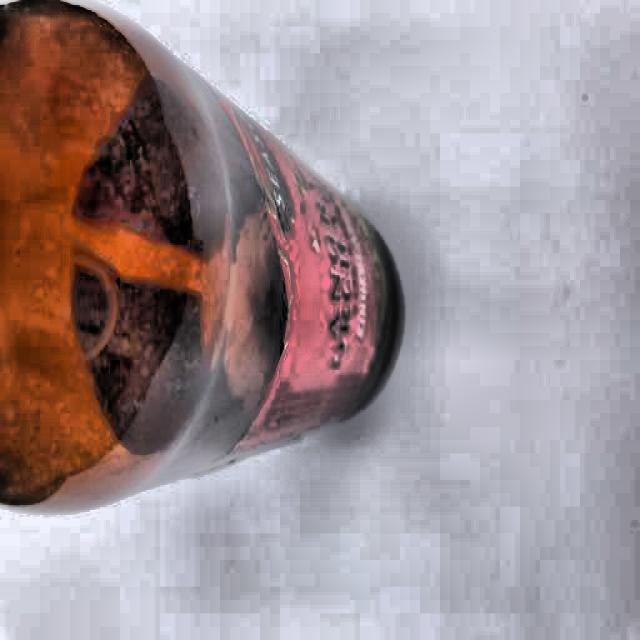glass: (0, 0, 401, 507)
